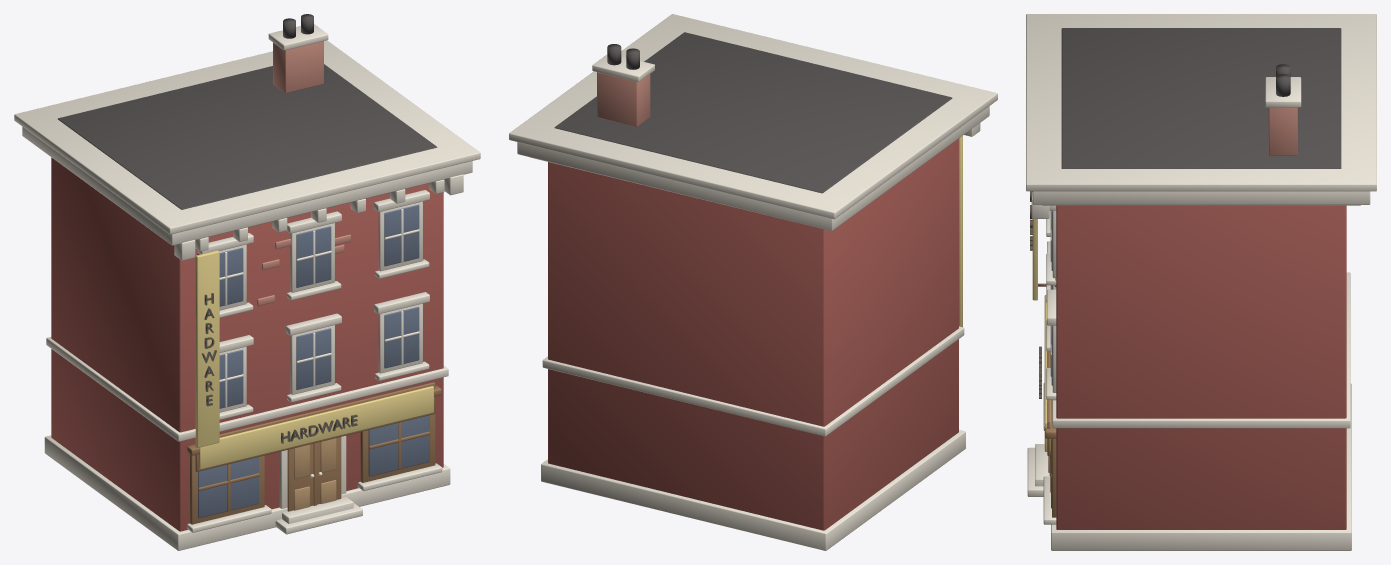
Rendered from edificio_04a.glb.
The picture shows the model from 3 angles, left to right: view 1: azimuth 30°, elevation 25°; view 2: azimuth 150°, elevation 25°; view 3: azimuth 270°, elevation 25°; orthographic projection. The views are drawn at different scales.
Parts seen in each view (by area): view 1: corpo, tetto, cornicione_corona, zoccolo, insegna_h, cornicione_fascia, insegna_v, fascia_pt, vetrina_vetro_R, vetrina_vetro_L, comignolo_fusto, fin_p2_1_vetro (+24 smaller); view 2: corpo, tetto, cornicione_corona, zoccolo, cornicione_fascia, fascia_pt, comignolo_fusto, comignolo_cappello, insegna_v; view 3: corpo, tetto, cornicione_corona, zoccolo, cornicione_fascia, fascia_pt, comignolo_fusto, comignolo_cappello, insegna_h, gradino_basso, gradino_alto, insegna_v (+1 smaller).
Part boxes in pixels (left/top/right/bottom): corpo: left=51, top=157, right=443, bottom=531; tetto: left=58, top=64, right=437, bottom=209; cornicione_corona: left=14, top=40, right=480, bottom=234; zoccolo: left=44, top=435, right=450, bottom=550; insegna_h: left=199, top=386, right=433, bottom=469; cornicione_fascia: left=22, top=127, right=472, bottom=245; insegna_v: left=195, top=250, right=219, bottom=447; fascia_pt: left=46, top=337, right=448, bottom=441; vetrina_vetro_R: left=368, top=415, right=429, bottom=476; vetrina_vetro_L: left=198, top=457, right=258, bottom=518; comignolo_fusto: left=273, top=41, right=323, bottom=93; fin_p2_1_vetro: left=296, top=226, right=331, bottom=287; corpo: left=548, top=138, right=958, bottom=530; tetto: left=554, top=32, right=952, bottom=193; cornicione_corona: left=509, top=14, right=997, bottom=219; zoccolo: left=541, top=429, right=965, bottom=550; cornicione_fascia: left=517, top=106, right=989, bottom=230; fascia_pt: left=542, top=326, right=964, bottom=436; comignolo_fusto: left=597, top=72, right=650, bottom=126; comignolo_cappello: left=592, top=54, right=654, bottom=82; insegna_v: left=959, top=135, right=962, bottom=327; corpo: left=1056, top=205, right=1346, bottom=529; tetto: left=1061, top=28, right=1341, bottom=168; cornicione_corona: left=1026, top=14, right=1376, bottom=191; zoccolo: left=1051, top=383, right=1351, bottom=550; cornicione_fascia: left=1032, top=191, right=1370, bottom=204; fascia_pt: left=1052, top=272, right=1350, bottom=428; comignolo_fusto: left=1268, top=107, right=1297, bottom=155; comignolo_cappello: left=1265, top=77, right=1301, bottom=107; insegna_h: left=1044, top=295, right=1050, bottom=451; gradino_basso: left=1027, top=447, right=1043, bottom=496; gradino_alto: left=1035, top=444, right=1049, bottom=486; insegna_v: left=1032, top=219, right=1037, bottom=300.
Size of the model in its own units: 7.65 by 9.46 by 6.65.
